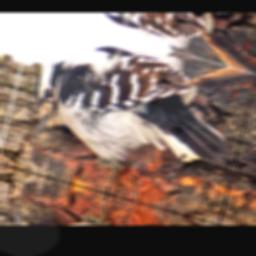Woodpecker: (12, 20, 256, 223)
